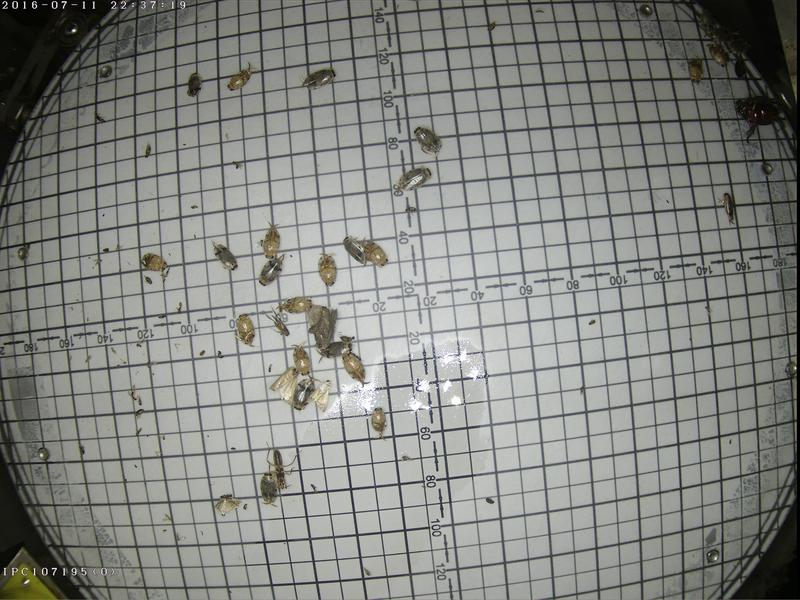Stem borer: (268, 362, 295, 401)
